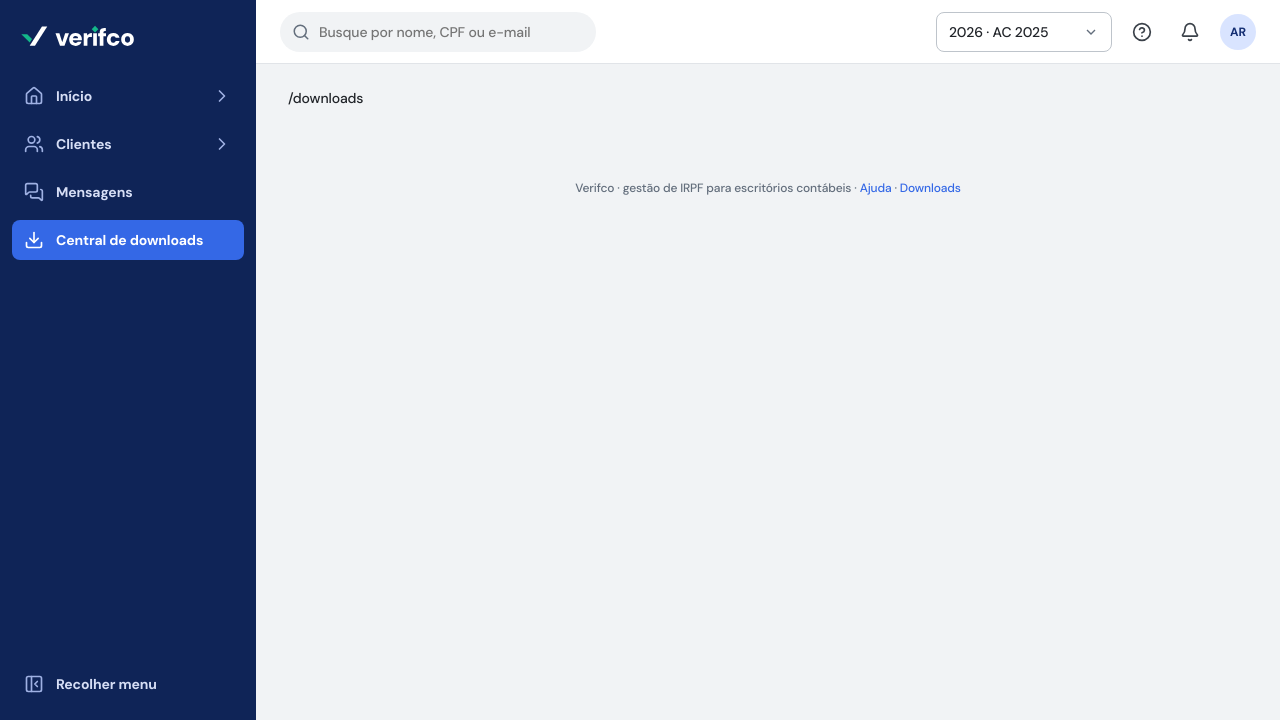
Test: busca global › Enter sem escolher abre a lista completa, como antes; clicar numa sugestão abre o cliente
Type " ana souza " into the dropdown named "Buscar clientes" at (438, 32), box [280,12,596,52]
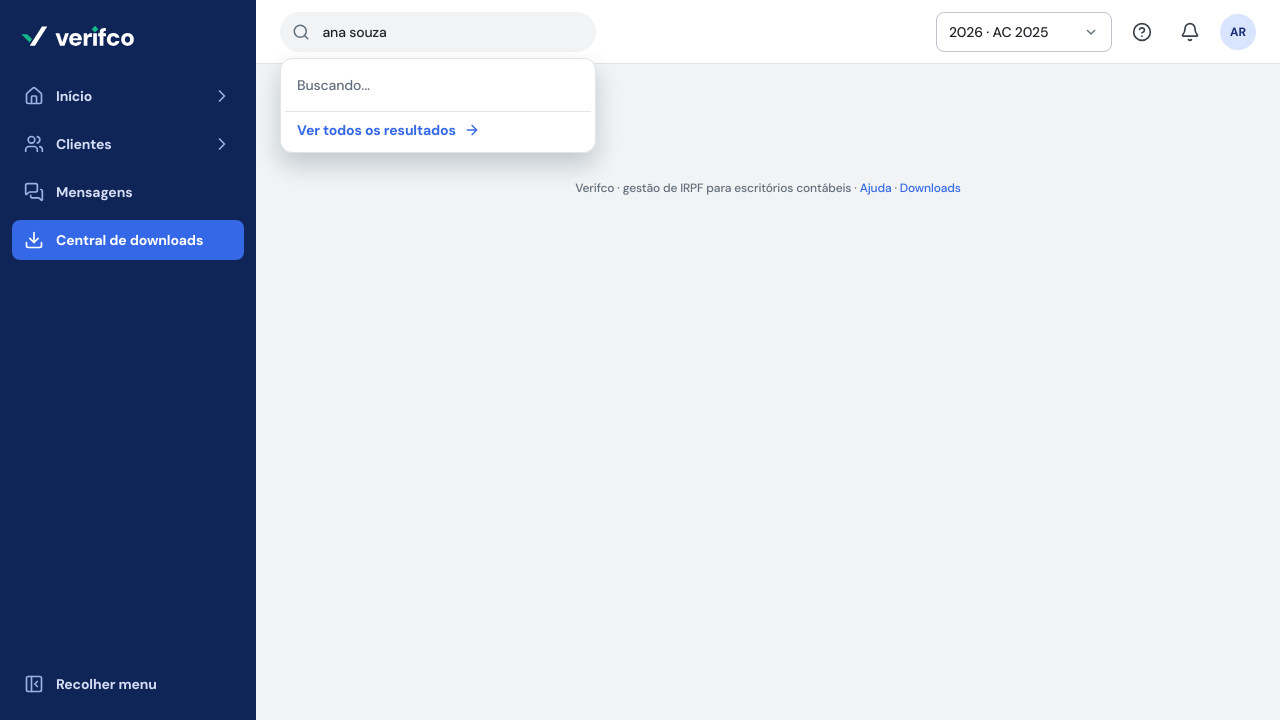
Submit the form named "Buscar clientes", box [280,12,596,52]
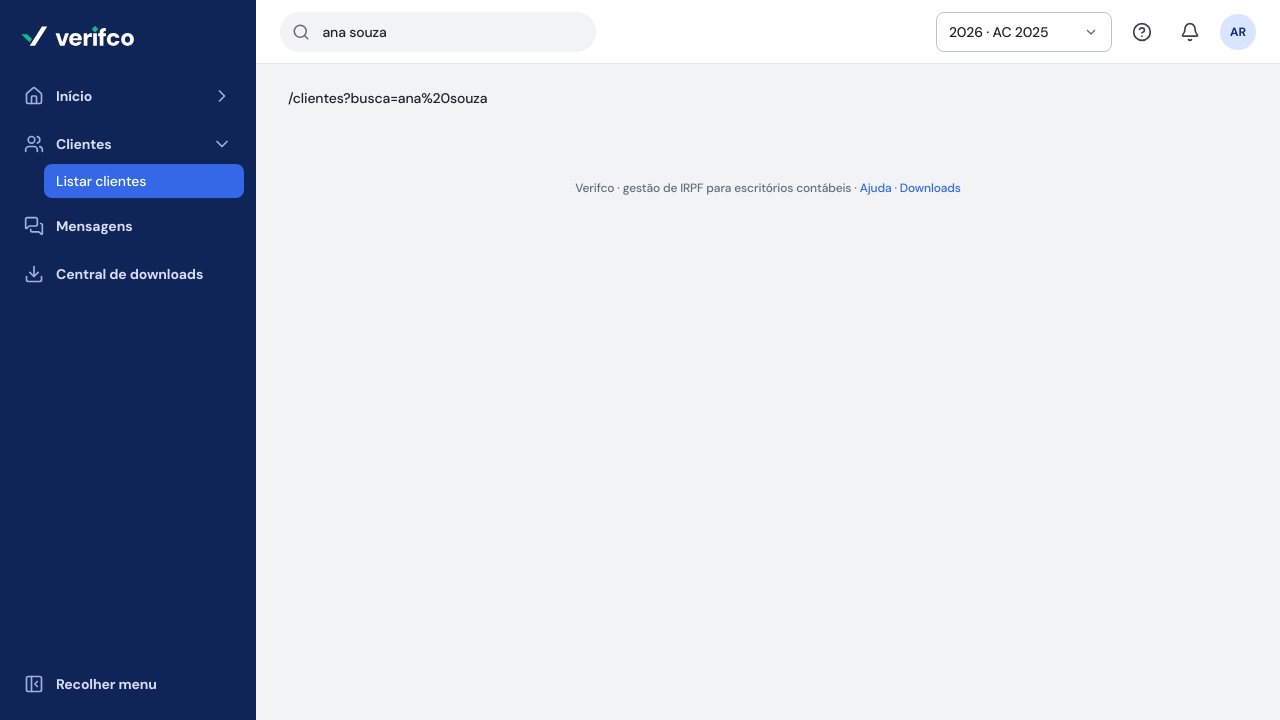
Check: the text with test id "where" reads "/clientes?busca=ana%20souza", box [288,89,487,107]
Replace the text in the dropdown named "Buscar clientes" with "ana" at (438, 32), box [280,12,596,52]
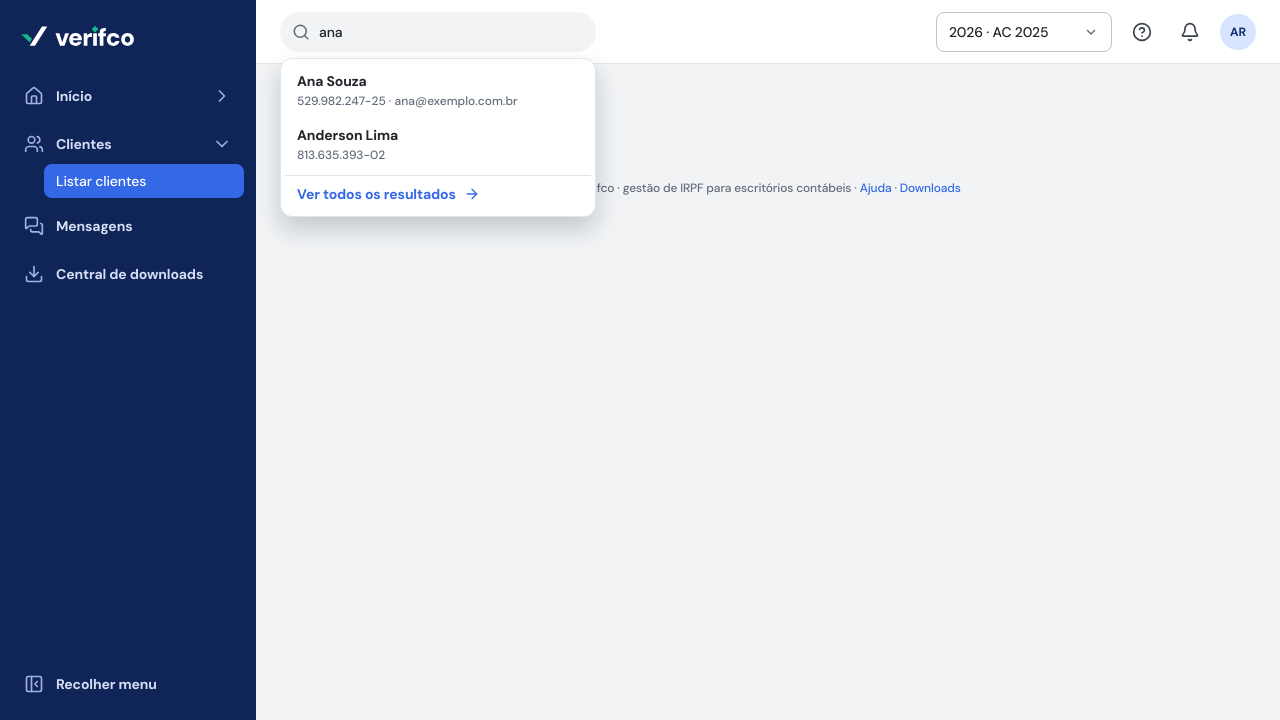
Click the option "Ana Souza 529.982.247-25 · ana@exemplo.com.br" at (407, 90), box [297,72,518,108]
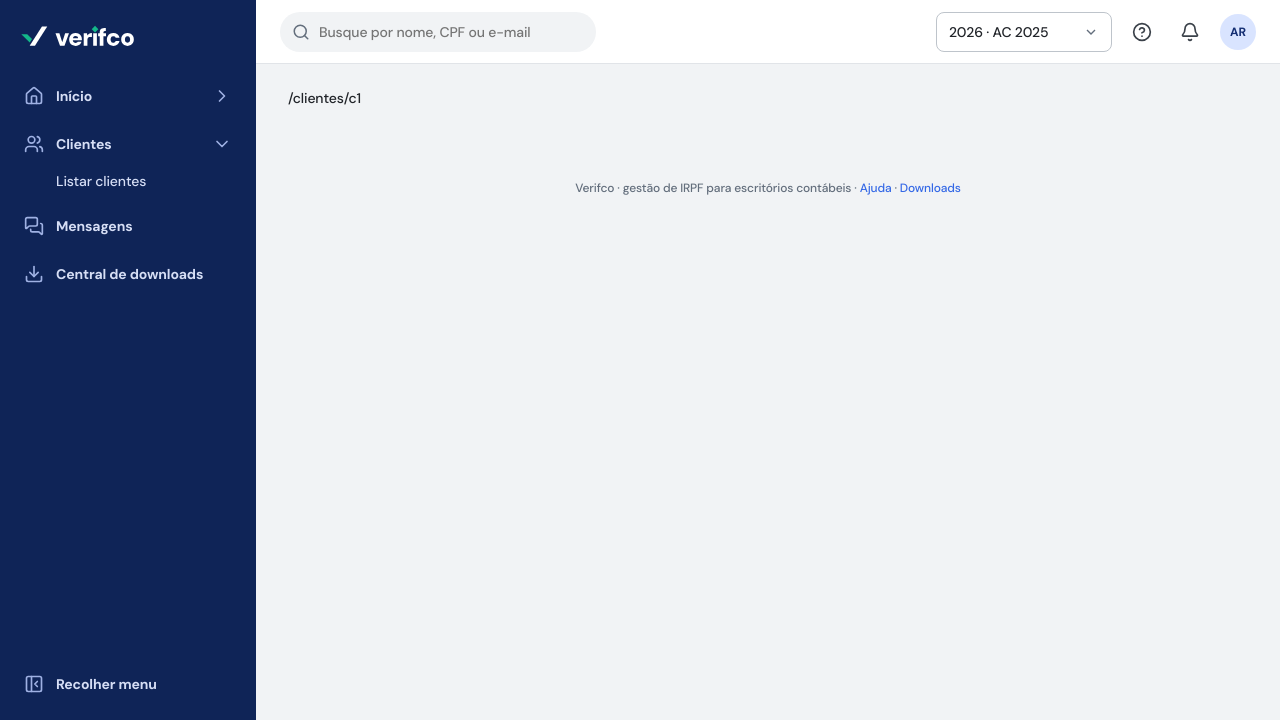
Check: the text with test id "where" reads "/clientes/c1", box [288,89,361,107]
